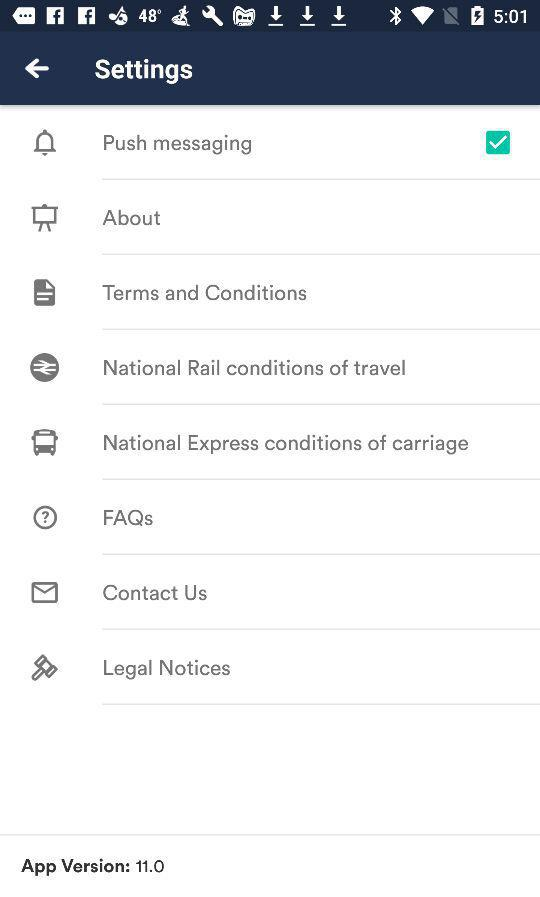CheckedTextView: (104, 131, 511, 156)
Icon: (34, 278, 57, 307), (35, 129, 58, 157), (34, 505, 59, 530), (32, 582, 60, 604), (25, 59, 51, 80)
Image: (30, 352, 60, 383), (31, 203, 59, 233), (32, 429, 60, 457), (32, 654, 60, 682)
Text: (104, 434, 469, 456), (104, 359, 406, 377), (102, 284, 307, 301), (104, 134, 253, 156), (104, 659, 231, 681), (21, 858, 165, 877), (96, 59, 194, 86), (103, 584, 208, 601), (103, 210, 161, 227), (104, 509, 154, 527)
UpperTaskBar: (1, 1, 540, 33)
